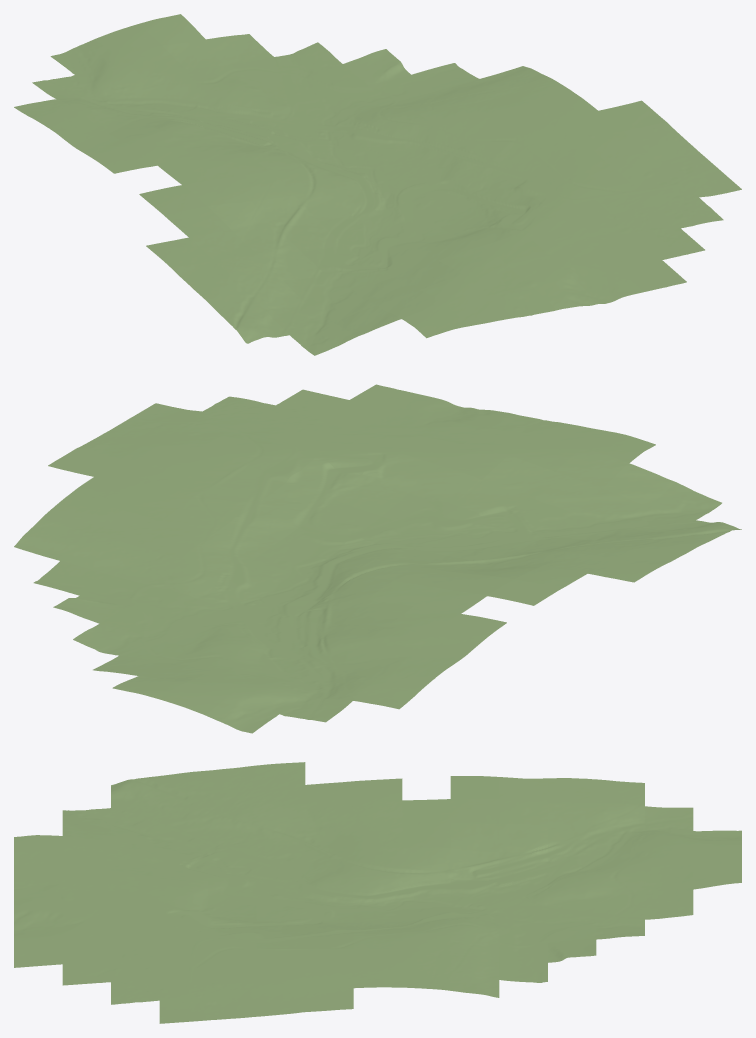
Rendered from terrain_lod1.glb.
3 views of the same model, one above another, from view 1: azimuth 30°, elevation 25°; view 2: azimuth 150°, elevation 25°; view 3: azimuth 270°, elevation 25° (orthographic). The views are drawn at different scales.
Parts seen in each view (by area): view 1: t_5_13, t_9_12, t_5_7, t_8_8, t_8_1, t_8_9, t_4_7, t_1_3, t_4_13, t_8_7, t_4_14, t_7_9 (+122 smaller); view 2: t_6_4, t_11_10, t_7_4, t_10_10, t_3_2, t_5_3, t_9_10, t_4_3, t_5_4, t_4_2, t_8_10, t_8_5 (+122 smaller); view 3: t_6_8, t_5_10, t_5_9, t_3_13, t_4_11, t_6_9, t_3_6, t_4_10, t_3_7, t_3_5, t_2_4, t_3_12 (+122 smaller).
Part boxes in pixels (box(x1,y1,x2,y2)): t_5_13: box(144, 70, 212, 105); t_9_12: box(343, 49, 410, 84); t_5_7: box(295, 188, 362, 221); t_8_8: box(400, 131, 467, 169); t_8_1: box(575, 269, 643, 303); t_8_9: box(375, 114, 442, 150); t_4_7: box(251, 195, 318, 227); t_1_3: box(221, 309, 289, 343); t_4_13: box(101, 80, 168, 113); t_8_7: box(425, 150, 492, 188); t_4_14: box(76, 56, 143, 93); t_7_9: box(331, 130, 399, 165); t_6_4: box(409, 464, 481, 504); t_11_10: box(14, 519, 86, 560); t_7_4: box(362, 450, 434, 492); t_10_10: box(61, 532, 133, 573); t_3_2: box(602, 463, 674, 506); t_5_3: box(482, 455, 554, 497); t_9_10: box(107, 545, 180, 586); t_4_3: box(529, 472, 601, 513); t_5_4: box(455, 480, 528, 521); t_4_2: box(556, 448, 628, 488); t_8_10: box(154, 559, 226, 599); t_8_5: box(288, 457, 361, 499); t_6_8: box(353, 875, 402, 906); t_5_10: box(450, 848, 499, 879); t_5_9: box(402, 847, 450, 878); t_3_13: box(596, 803, 644, 833); t_4_11: box(499, 823, 547, 854); t_6_9: box(402, 875, 450, 905); t_3_6: box(256, 810, 305, 842); t_4_10: box(450, 823, 499, 852); t_3_7: box(305, 803, 353, 837); t_3_5: box(208, 814, 256, 846); t_2_4: box(159, 795, 207, 827); t_3_12: box(548, 803, 596, 832).
Size of the model in its own units: 3072 by 205 by 3840.
